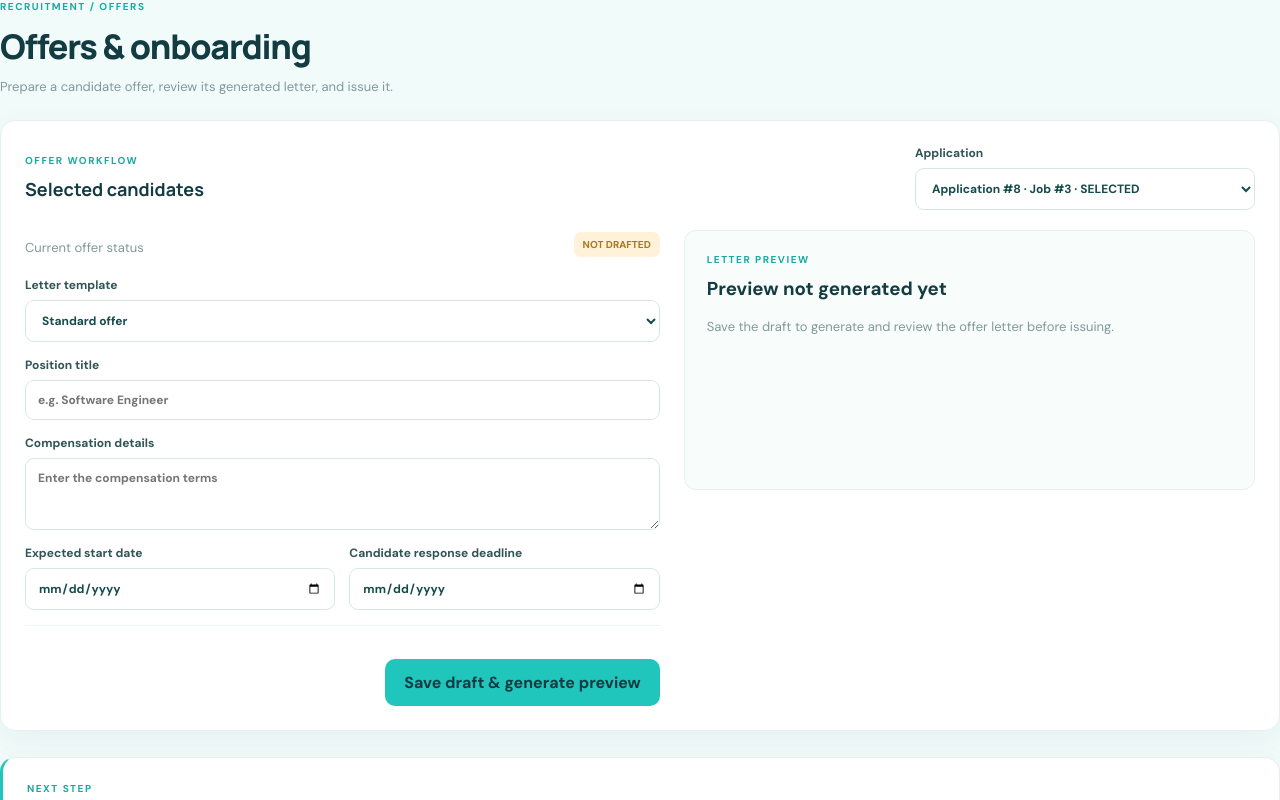
Test case: HROffers › saves a draft and shows the generated preview
This screenshot has width=1280, height=800.
Type "As agreed" into the text box labelled "Compensation details".
click(342, 494); type("As agreed")  # box [25, 458, 660, 530]
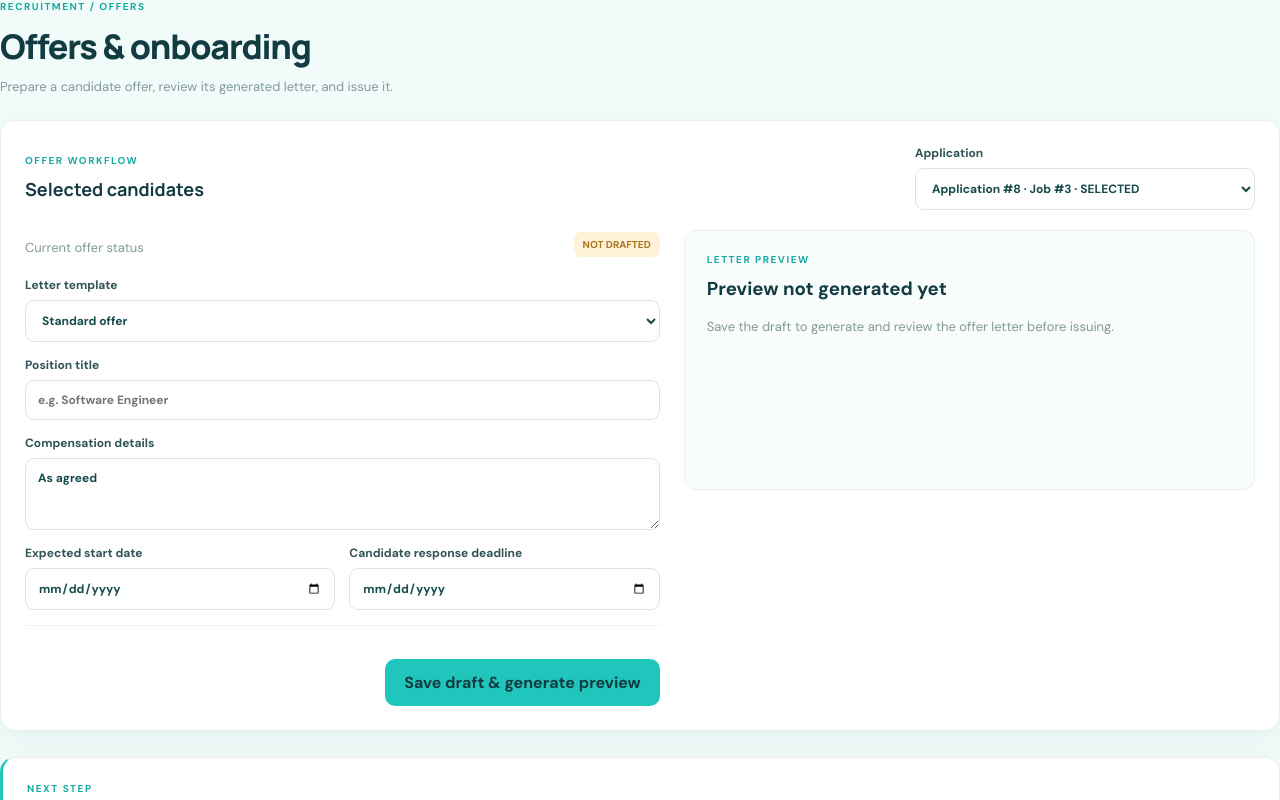
Type "Software Engineer" into the field labelled "Position title".
click(342, 400); type("Software Engineer")  # box [25, 380, 660, 420]
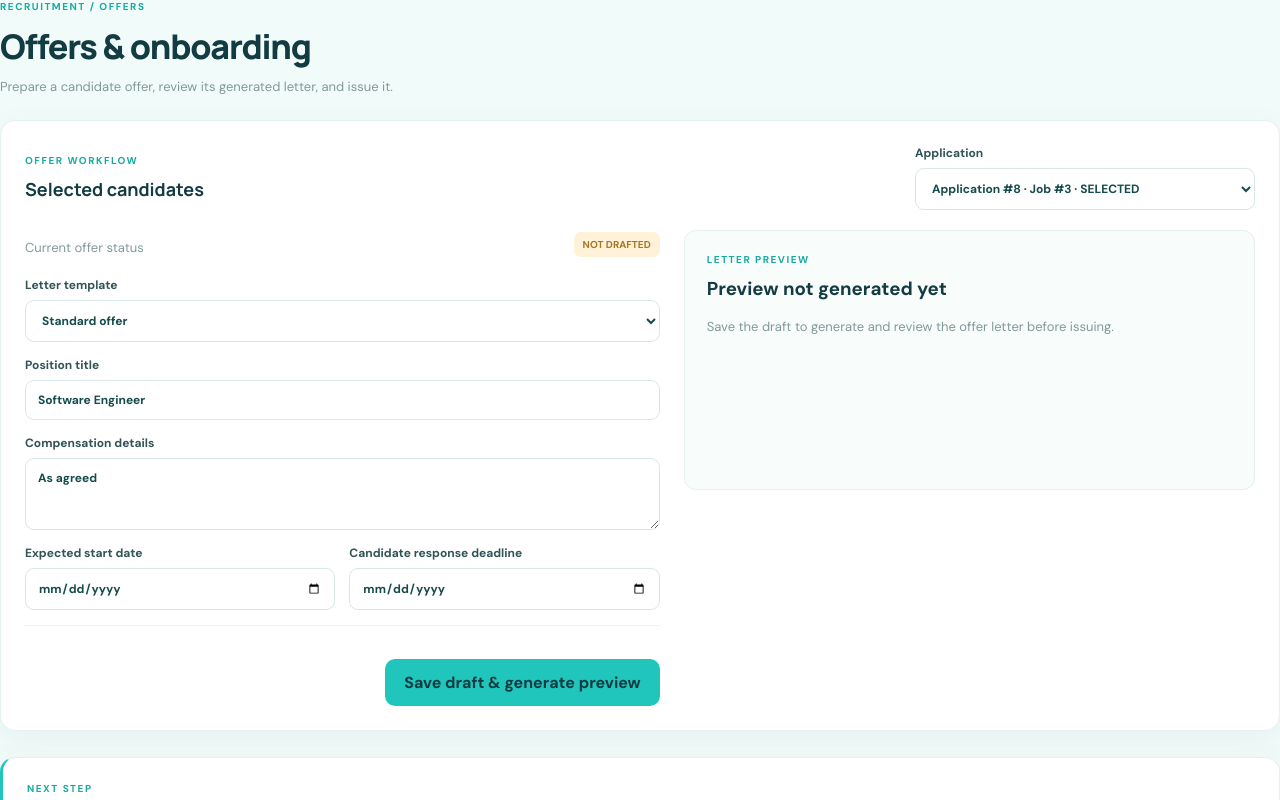
Type "2027-01-15" into the date field labelled "Expected start date".
click(180, 589); type("2027-01-15")  # box [25, 568, 335, 610]
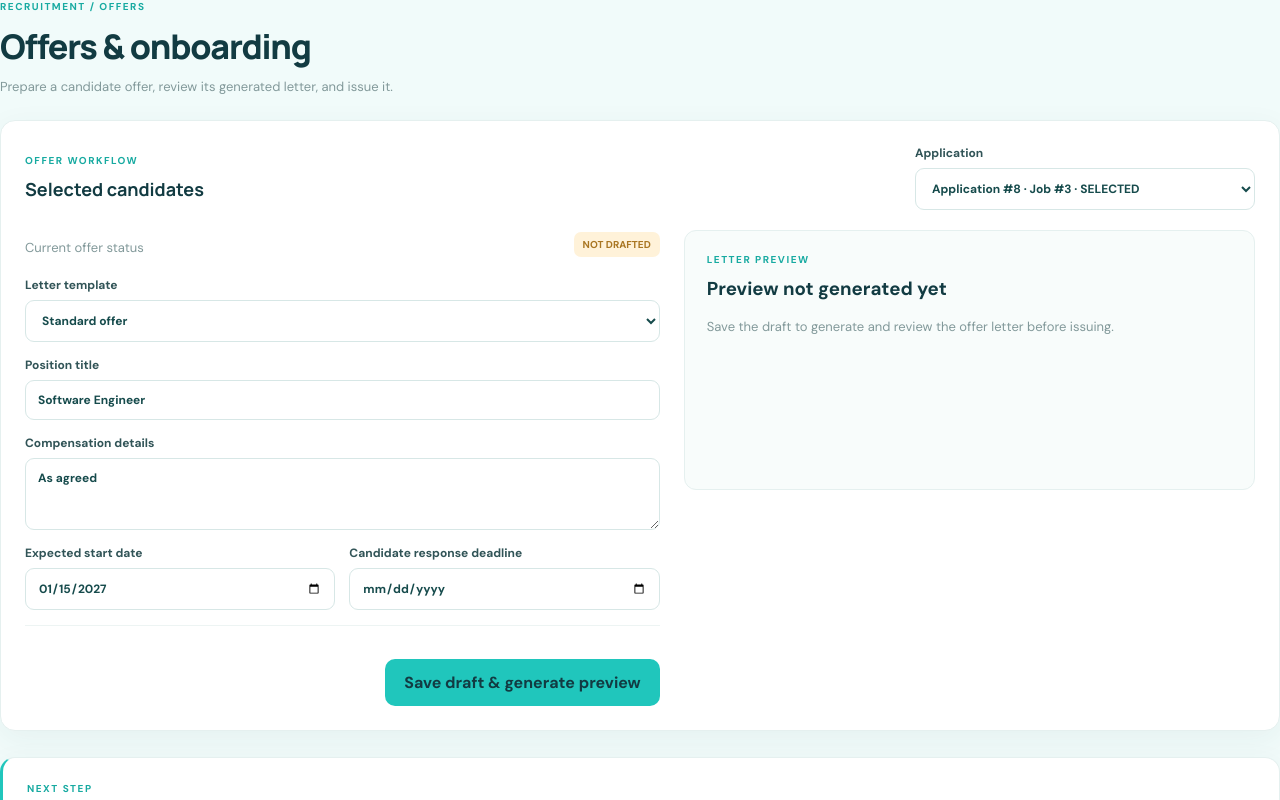
Click the button "Save draft & generate preview".
click(522, 682)  # box [385, 659, 660, 706]
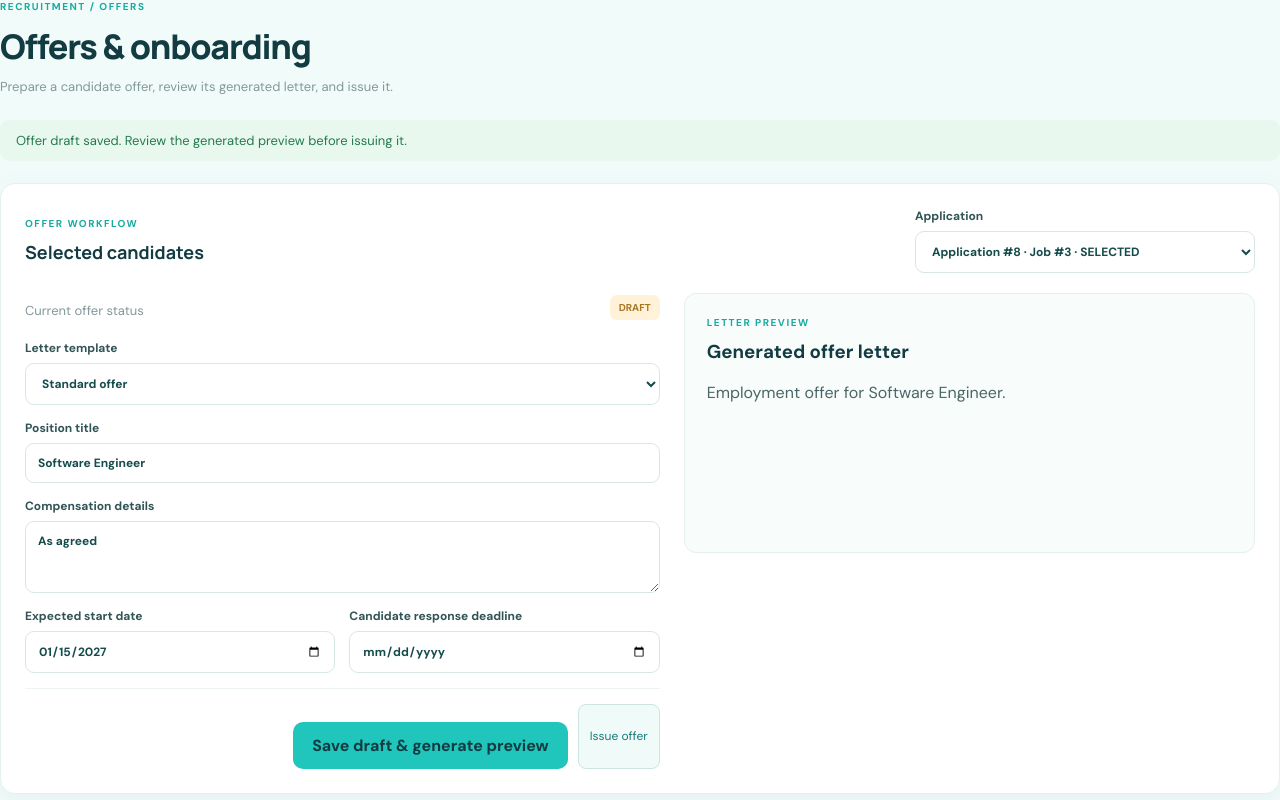
expect the text "Employment offer for Software Engineer." is shown: met, box [707, 382, 1005, 403]
expect the text "Offer draft saved. Review the generated preview before issuing it." is shown: met, box [0, 120, 1279, 161]
